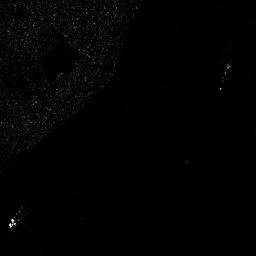ship: (218, 62, 232, 91), (8, 209, 25, 229)
